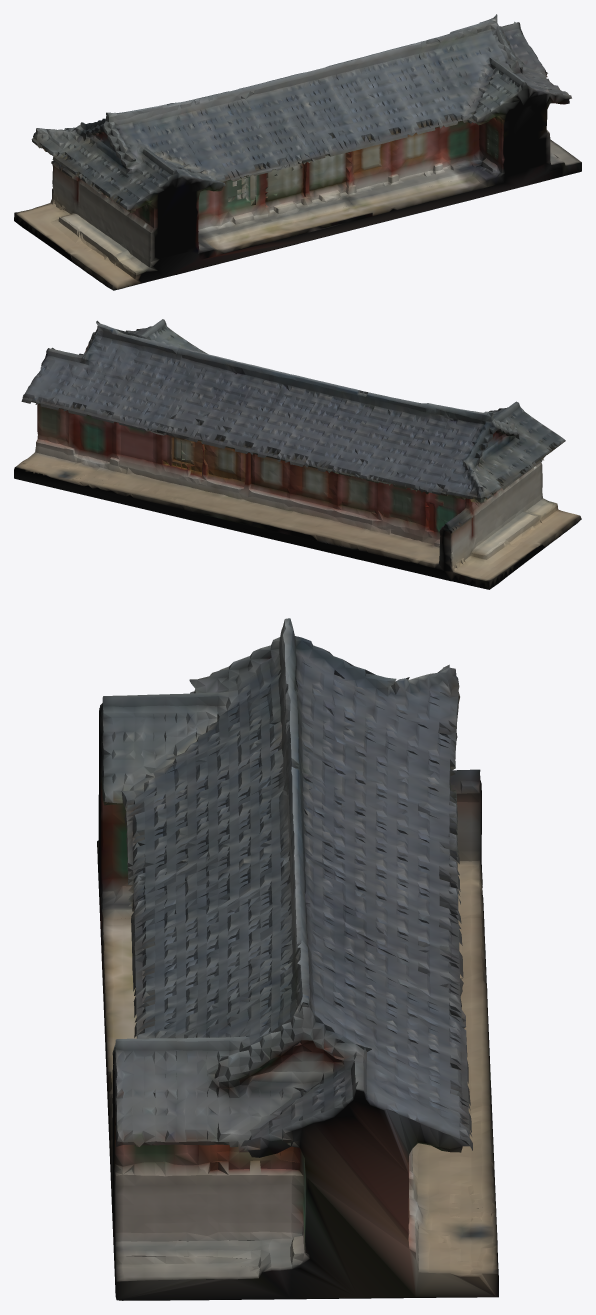
File: sojubang.glb
The picture shows the model from 3 angles, top to bottom: view 1: azimuth 30°, elevation 25°; view 2: azimuth 150°, elevation 25°; view 3: azimuth 270°, elevation 25°; orthographic projection. The views are drawn at different scales.
Size of the model in its own units: 1.03 by 0.2744 by 0.3794.
